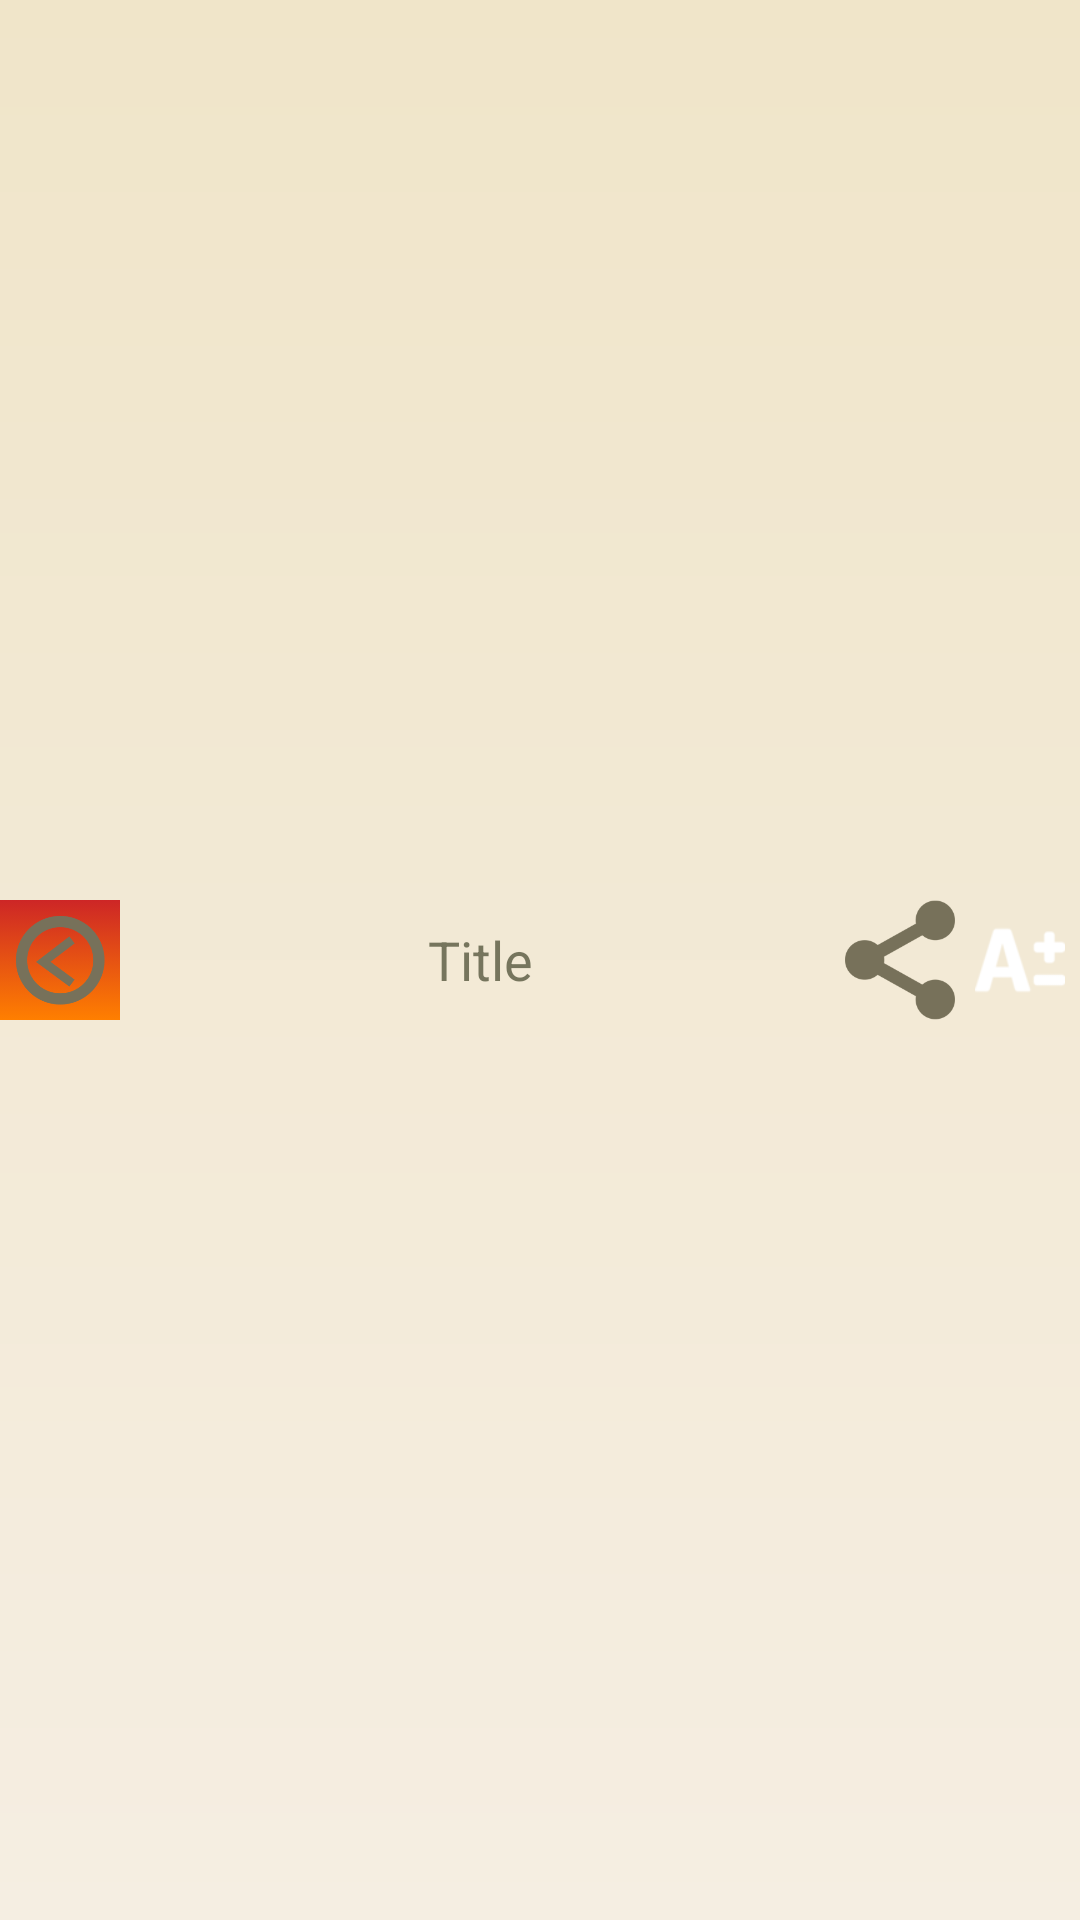

Icons on this 1080 x 1920 Android screen, each with the point to tap as [x,y]:
arrow left: [60,960]
font: [1020,960]
share: [900,960]
